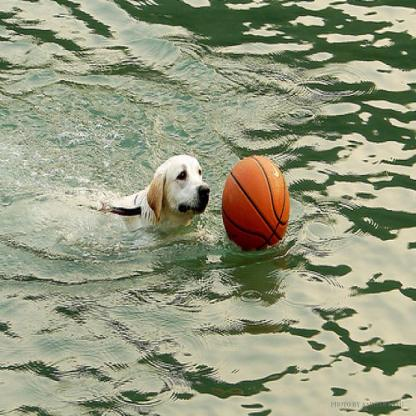basketball: (220, 154, 290, 254)
